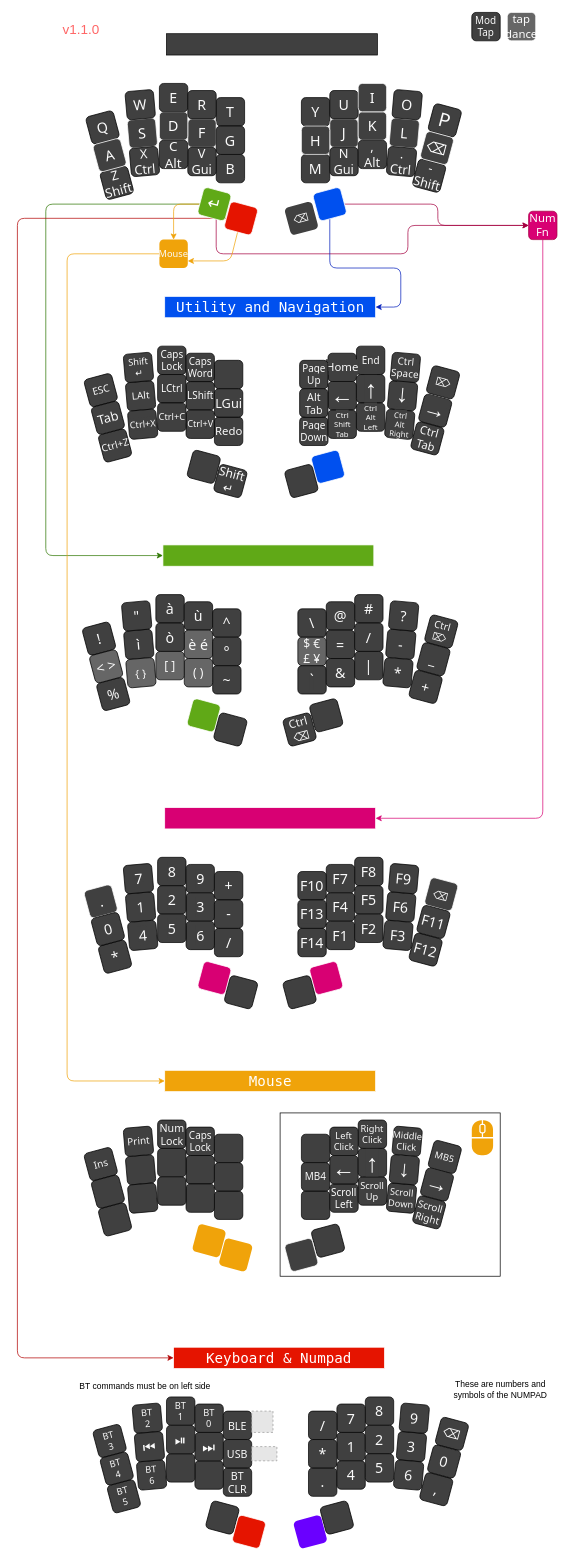
Some shapes in this 569 by 1562 pixel diagram are drawn without their labels. Grey dashed boxes stand in for pictures. Here are the shapes that lost their labels. From the top down, the box of each, then its label:
(166, 33, 377, 55): Base
(223, 200, 259, 236): KBD
(312, 186, 347, 222): Space
(162, 544, 374, 566): Symbols
(164, 807, 376, 829): Numbers/Functions
